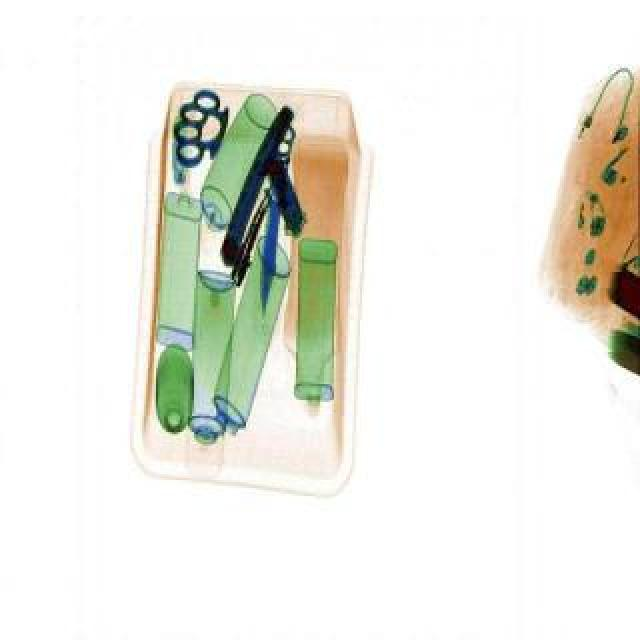knife: (250, 142, 314, 240), (166, 84, 234, 172), (252, 172, 284, 316)
